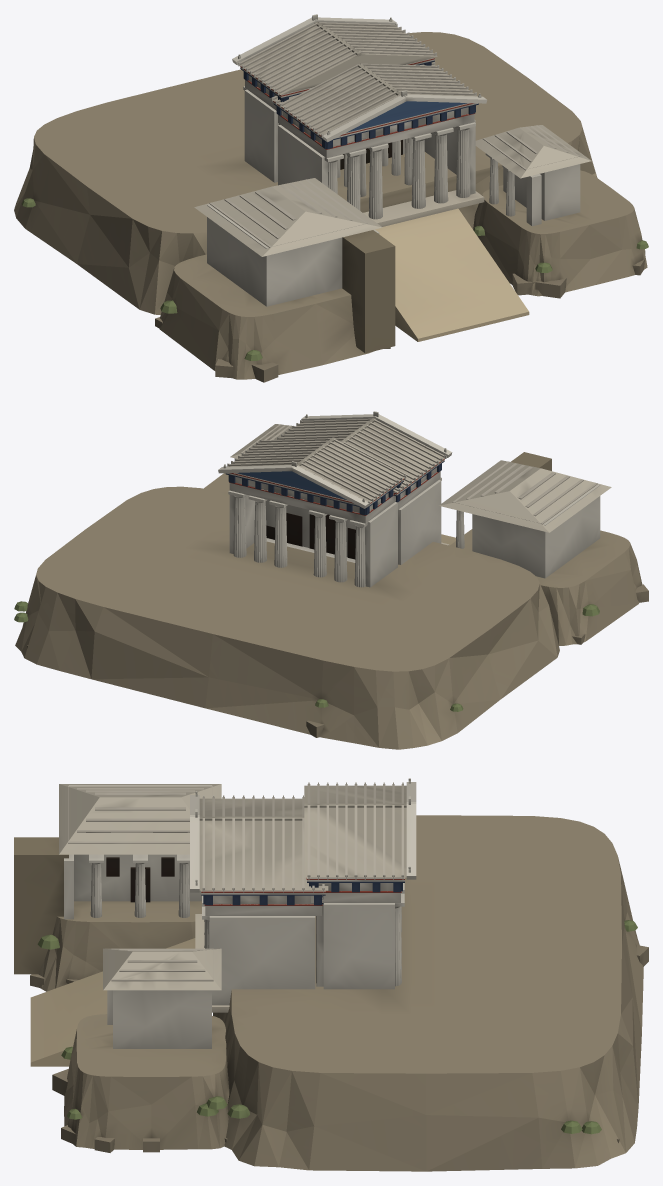
Rendered from propylaia.glb.
3 views of the same model, one above another, from view 1: azimuth 30°, elevation 25°; view 2: azimuth 150°, elevation 25°; view 3: azimuth 270°, elevation 25° (orthographic). The views are drawn at different scales.
Visible parts, largest first — view 1: p0_rock, p3_roof, p1_columns, p2_entablature; view 2: p0_rock, p3_roof, p1_columns, p2_entablature; view 3: p0_rock, p3_roof, p1_columns, p2_entablature.
Part boxes in pixels (<box>): p0_rock: <box>14,32,648,382</box>; p3_roof: <box>194,14,591,256</box>; p1_columns: <box>207,86,580,353</box>; p2_entablature: <box>240,57,478,158</box>; p0_rock: <box>14,473,648,749</box>; p3_roof: <box>218,411,611,532</box>; p1_columns: <box>228,452,600,587</box>; p2_entablature: <box>225,459,444,523</box>; p0_rock: <box>30,815,648,1171</box>; p3_roof: <box>59,778,416,990</box>; p1_columns: <box>14,785,404,1048</box>; p2_entablature: <box>201,877,404,915</box>.
Size of the model in its own units: 60.32 by 23.73 by 57.75.
